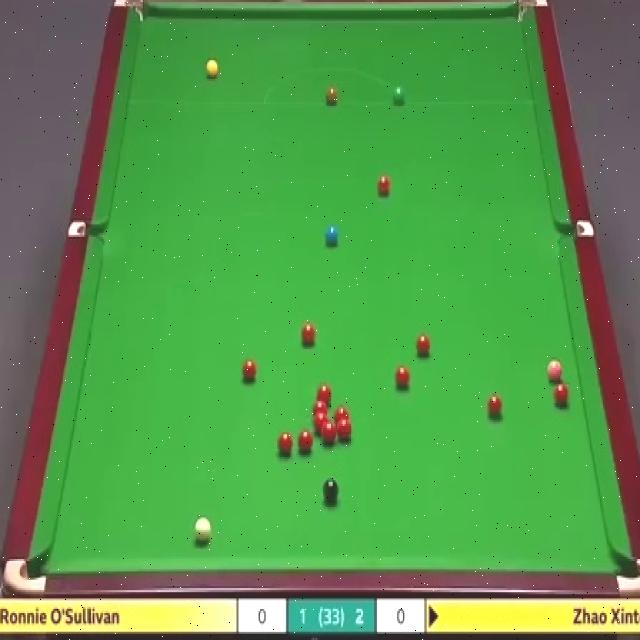black-ball: (323, 477, 339, 504)
blue-ball: (324, 224, 338, 243)
brown-ball: (324, 88, 338, 104)
green-ball: (392, 84, 406, 105)
pink-ball: (546, 359, 564, 385)
red-ball: (487, 394, 504, 419), (321, 422, 337, 447), (278, 431, 294, 454), (301, 322, 315, 348), (337, 419, 353, 441), (553, 385, 569, 407), (298, 429, 313, 452), (377, 176, 392, 199), (394, 366, 409, 388), (241, 360, 257, 380), (417, 335, 430, 356), (313, 415, 327, 434), (318, 383, 329, 406), (334, 406, 348, 424), (313, 404, 327, 421)
white-ball: (194, 518, 213, 544)
yellow-ball: (205, 58, 218, 80)
